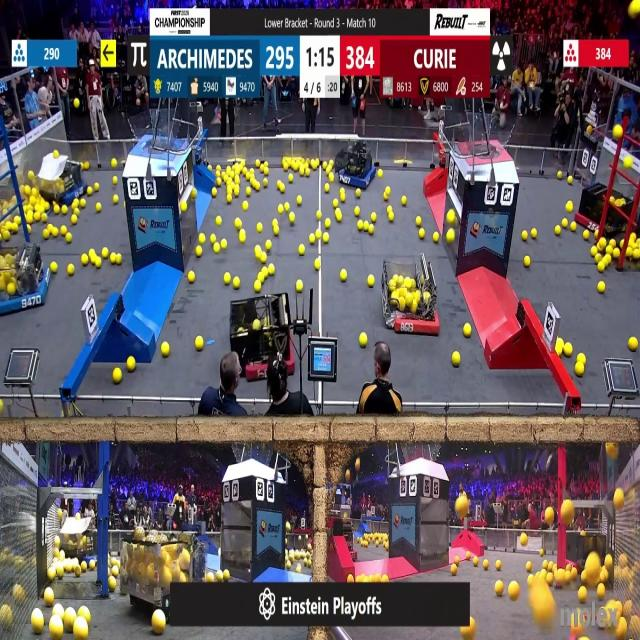ball_airborne: (561, 501, 574, 526), (456, 495, 468, 513), (606, 444, 617, 461), (615, 490, 625, 508), (629, 1, 640, 16), (614, 126, 624, 140), (544, 509, 552, 524), (625, 157, 633, 170), (355, 458, 361, 470), (74, 98, 80, 108), (346, 470, 352, 480), (28, 171, 34, 181), (55, 151, 60, 159)
ball_ground: (32, 612, 45, 636), (154, 612, 167, 636), (65, 608, 76, 629), (74, 624, 88, 640), (52, 622, 64, 640), (44, 589, 54, 607), (510, 584, 520, 600), (78, 607, 88, 621), (128, 356, 136, 371), (113, 367, 121, 382), (578, 588, 586, 603), (447, 211, 456, 224), (162, 343, 170, 357), (194, 338, 202, 352), (495, 583, 503, 597), (597, 586, 605, 600), (564, 344, 572, 358), (557, 341, 564, 356), (630, 338, 638, 351), (447, 230, 455, 243), (575, 362, 583, 375), (453, 352, 460, 366), (464, 323, 471, 336), (359, 335, 366, 348), (598, 239, 606, 250), (187, 272, 194, 284), (254, 281, 261, 293), (295, 280, 302, 292), (239, 232, 246, 244), (269, 265, 276, 277), (109, 579, 116, 591), (180, 201, 187, 213), (27, 212, 34, 224), (579, 571, 586, 583), (2, 232, 10, 242), (614, 248, 622, 258), (234, 278, 241, 289), (81, 254, 88, 265), (451, 564, 458, 575), (68, 266, 75, 277), (524, 256, 531, 267), (341, 271, 348, 282), (115, 252, 121, 264), (96, 256, 102, 268), (254, 246, 260, 258), (546, 572, 552, 584), (356, 573, 364, 582), (322, 234, 329, 244), (210, 235, 217, 245), (102, 248, 109, 258), (199, 235, 206, 245), (566, 203, 573, 213), (213, 244, 220, 254), (521, 534, 528, 544), (257, 272, 264, 282), (356, 220, 363, 230), (309, 236, 316, 246), (220, 240, 227, 250), (259, 252, 266, 262), (577, 353, 584, 363), (34, 212, 41, 222), (604, 254, 611, 264), (195, 246, 201, 257), (367, 276, 373, 287), (416, 216, 422, 227), (432, 233, 438, 244), (315, 260, 321, 271), (598, 282, 604, 293), (223, 274, 229, 285), (337, 211, 343, 222), (222, 569, 228, 580), (108, 255, 116, 263), (111, 567, 118, 576), (225, 184, 232, 193), (12, 223, 19, 232), (50, 264, 56, 274), (420, 230, 426, 240), (531, 230, 537, 240), (298, 244, 304, 254), (267, 241, 273, 251), (584, 231, 590, 241), (256, 222, 262, 232), (484, 560, 490, 570), (289, 213, 295, 223), (556, 224, 562, 234), (66, 234, 72, 244), (523, 232, 529, 242), (400, 197, 406, 207), (570, 221, 576, 231), (236, 218, 242, 228), (43, 231, 49, 241), (274, 225, 280, 235), (367, 223, 373, 233), (562, 218, 568, 228), (598, 264, 604, 274), (316, 210, 322, 220), (591, 246, 597, 256), (526, 562, 532, 572), (41, 213, 47, 223), (51, 229, 57, 239), (61, 225, 67, 235), (234, 185, 240, 195), (595, 253, 601, 263), (348, 574, 355, 582), (331, 200, 338, 208), (608, 240, 615, 248), (243, 202, 249, 211), (212, 187, 218, 196), (388, 213, 394, 222), (79, 200, 85, 209), (111, 160, 117, 169), (316, 232, 322, 241), (278, 205, 284, 214), (62, 206, 68, 215), (341, 192, 347, 201), (254, 182, 260, 191), (382, 573, 388, 582), (55, 206, 61, 215), (284, 203, 290, 212), (246, 187, 252, 196), (298, 168, 304, 177), (634, 249, 640, 258), (81, 563, 87, 572), (0, 399, 4, 412), (324, 218, 329, 228), (47, 224, 52, 234), (226, 194, 232, 202), (95, 182, 101, 190), (216, 178, 222, 186), (378, 170, 384, 178), (90, 249, 96, 257), (235, 176, 241, 184), (627, 248, 633, 256), (91, 562, 97, 570), (322, 163, 328, 171), (13, 216, 19, 224), (259, 166, 265, 174), (370, 213, 375, 222), (356, 188, 361, 197), (113, 194, 118, 203), (324, 183, 329, 192), (72, 215, 77, 224), (496, 561, 501, 570), (97, 204, 102, 213), (328, 174, 333, 183), (89, 186, 94, 195), (279, 182, 284, 191), (306, 168, 311, 177), (190, 188, 195, 197), (250, 177, 255, 186), (73, 208, 79, 215), (454, 557, 460, 564), (557, 172, 563, 179), (282, 165, 288, 172), (355, 208, 360, 216), (112, 176, 117, 184), (472, 558, 477, 566), (288, 175, 293, 183), (384, 192, 389, 200), (631, 234, 636, 242), (388, 206, 393, 214), (28, 224, 33, 232), (621, 240, 626, 248), (542, 562, 547, 570), (242, 168, 247, 176), (215, 169, 220, 177), (265, 168, 270, 176), (216, 216, 220, 225), (296, 197, 300, 206), (265, 179, 269, 188), (568, 176, 572, 184), (386, 186, 390, 194), (274, 218, 278, 226), (296, 566, 300, 574), (466, 553, 470, 560), (540, 550, 544, 557), (255, 162, 259, 169), (85, 160, 88, 168)
goal: (460, 118, 517, 158), (129, 115, 186, 152)
robot_blue: (119, 530, 205, 618), (0, 245, 48, 316), (336, 139, 375, 188), (56, 163, 86, 203), (77, 531, 100, 564)
robot_red: (230, 298, 296, 382), (384, 254, 441, 334), (578, 173, 608, 229)
